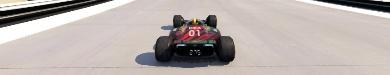Car: (153, 14, 235, 62)
